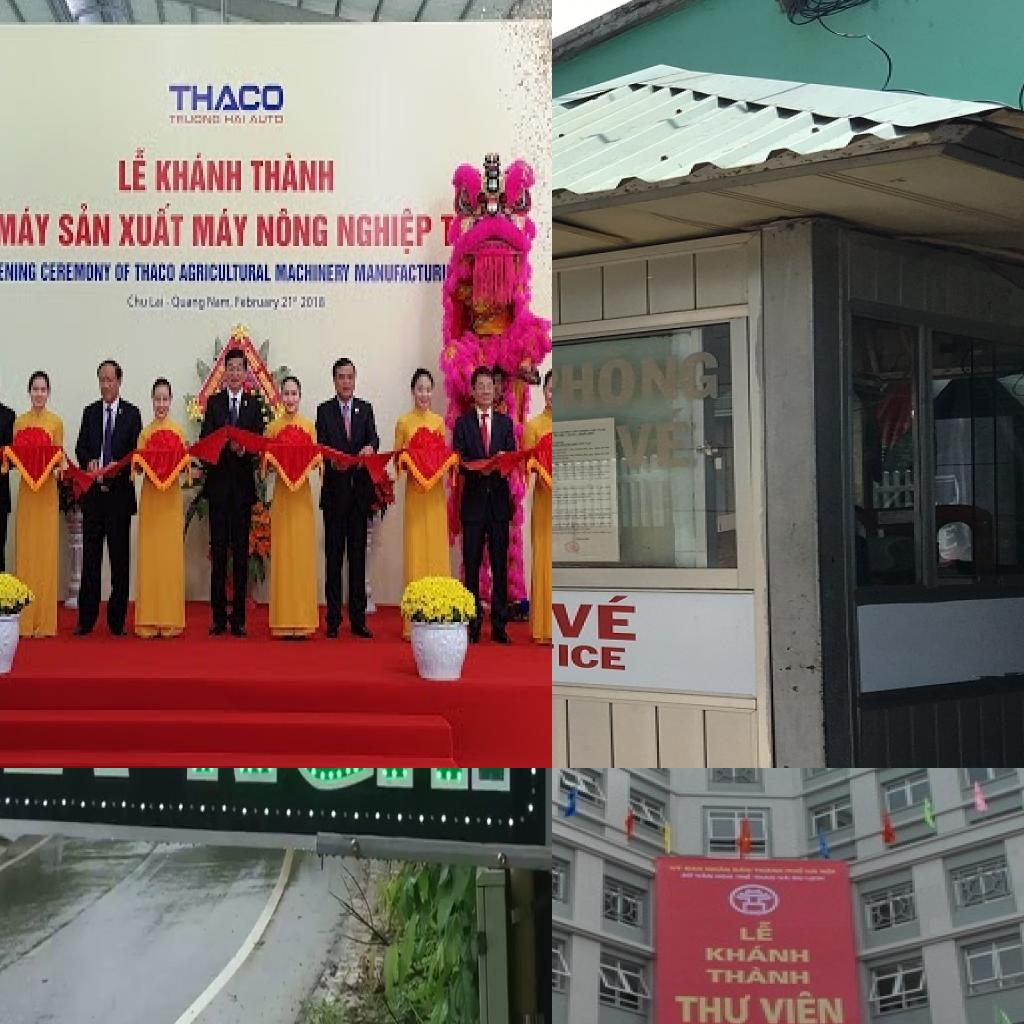text: (552, 348, 723, 412), (335, 204, 437, 260), (614, 404, 693, 473), (552, 593, 641, 643), (247, 150, 337, 198), (165, 81, 289, 115), (155, 150, 245, 195), (115, 201, 187, 251), (253, 206, 333, 251), (757, 990, 844, 1024), (189, 206, 253, 251), (552, 637, 628, 673), (57, 204, 113, 252), (0, 205, 57, 251), (672, 992, 752, 1024), (177, 262, 277, 286), (353, 262, 449, 286), (705, 965, 813, 986), (702, 945, 812, 965), (39, 259, 115, 286), (117, 139, 151, 198), (273, 262, 353, 286), (133, 262, 179, 286), (165, 113, 225, 131), (0, 259, 39, 285), (235, 294, 283, 315), (738, 920, 775, 943), (171, 294, 207, 315), (205, 294, 235, 315), (249, 112, 287, 128), (125, 291, 151, 313), (299, 294, 329, 313), (277, 294, 301, 313), (115, 260, 133, 284), (225, 112, 249, 128), (149, 294, 167, 313)
